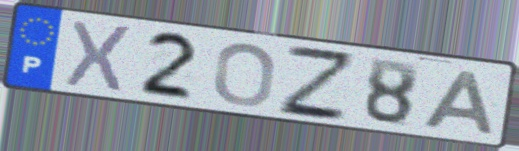2: (138, 30, 204, 105)
8: (361, 57, 421, 127)
A: (419, 68, 497, 137)
O: (211, 41, 279, 108)
X: (60, 17, 135, 96)
Z: (277, 41, 355, 124)
